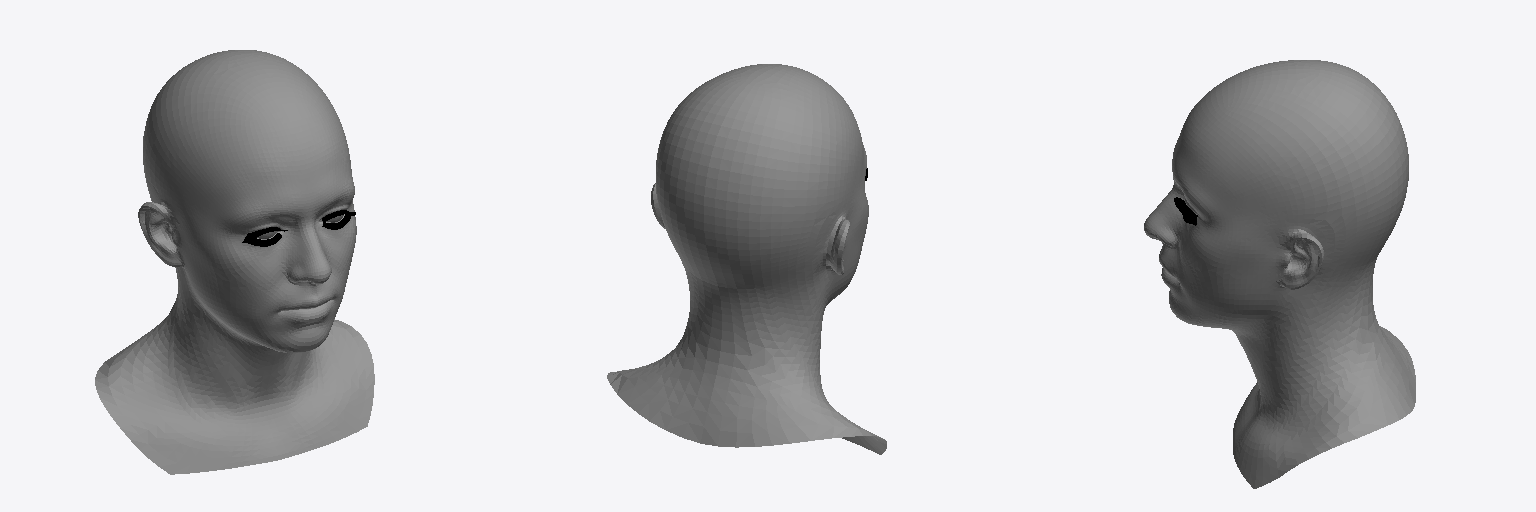
The model's file is identity058.obj.
The picture shows the model from 3 angles: view 1: azimuth 30°, elevation 25°; view 2: azimuth 150°, elevation 25°; view 3: azimuth 270°, elevation 25°; orthographic projection.
Bounding box in the file's own units: 24.83 × 33.81 × 22.33.